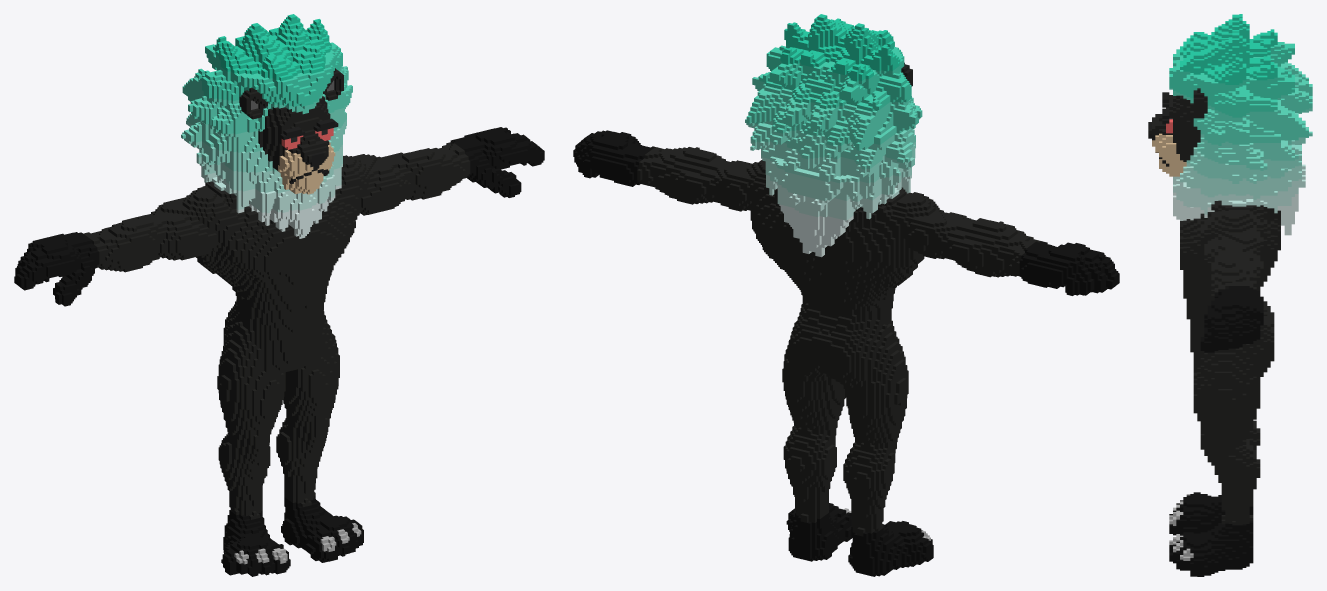
File: 563-DQNFX16d.glb
3 views of the same model, side by side, from view 1: azimuth 30°, elevation 25°; view 2: azimuth 150°, elevation 25°; view 3: azimuth 270°, elevation 25° (orthographic). The views are drawn at different scales.
Parts seen in each view (by area): view 1: sad; view 2: sad; view 3: sad.
Boxes of the visible parts, x1=… form: sad: x1=14, y1=14, x2=544, y2=576; sad: x1=573, y1=14, x2=1119, y2=576; sad: x1=1148, y1=14, x2=1312, y2=576.
Bounding box in the file's own units: 17.2 × 16.5 × 4.7.
Materials: 4 (4 with a texture image).
